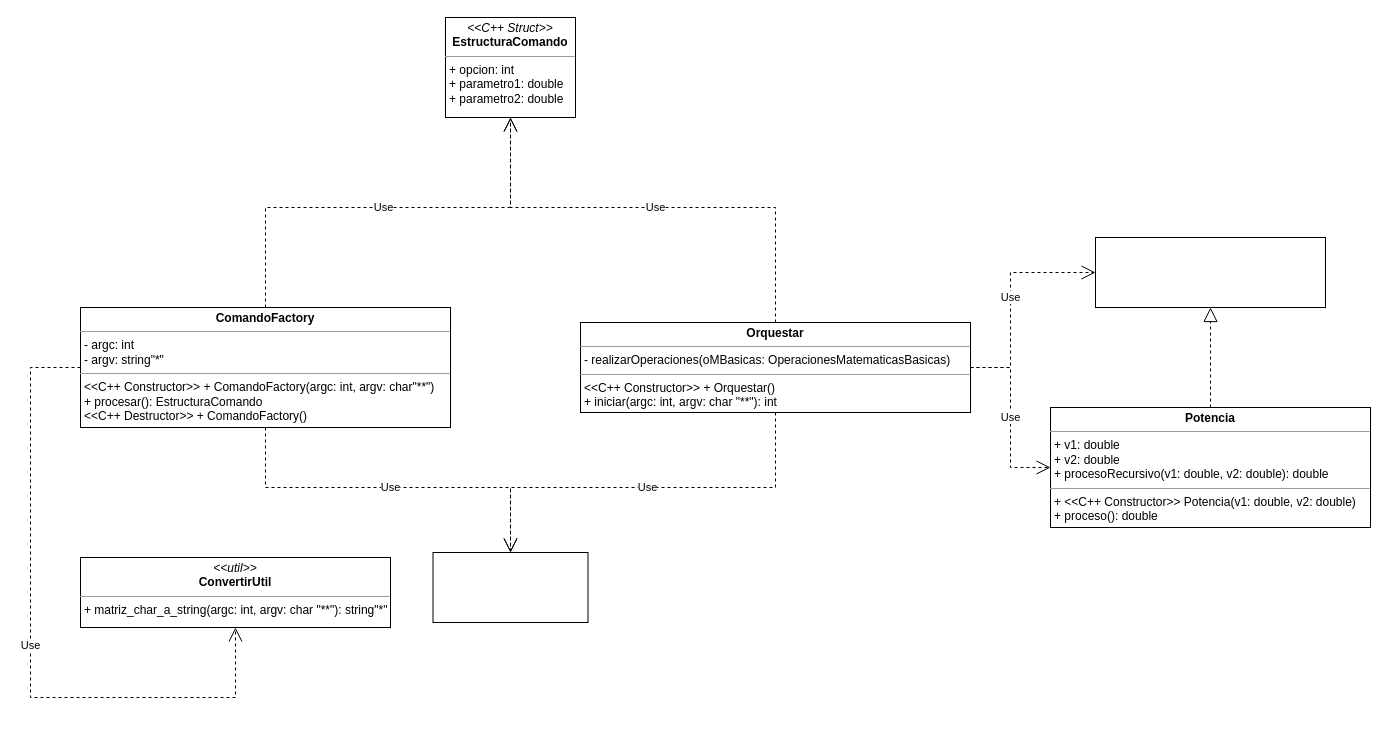
This 1388x729 diagram has some shape labels left out. The centre of each missing label's shape, as x and y in pixels:
"<<enumeration>> EnumeradorComandos POTENCIA" goes at point (510, 587).
"<<Interface>> OperacionesMatematicasBasicas + proceso(): double" goes at point (1210, 272).
